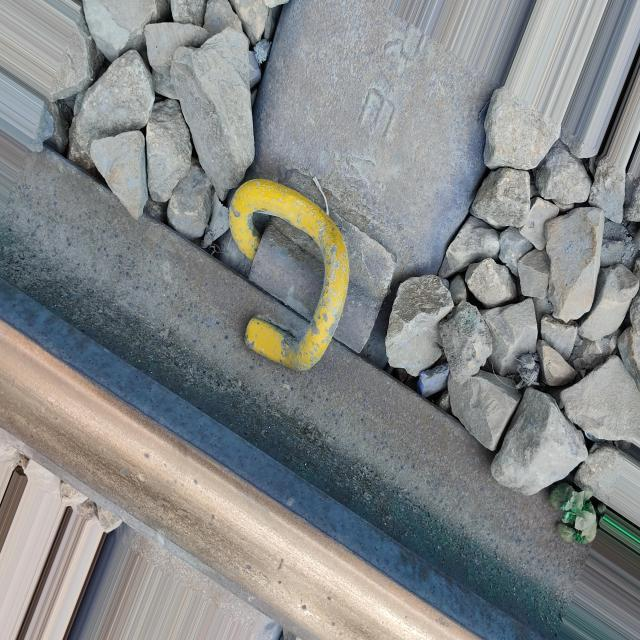Good Fasteners: (229, 179, 395, 371)
